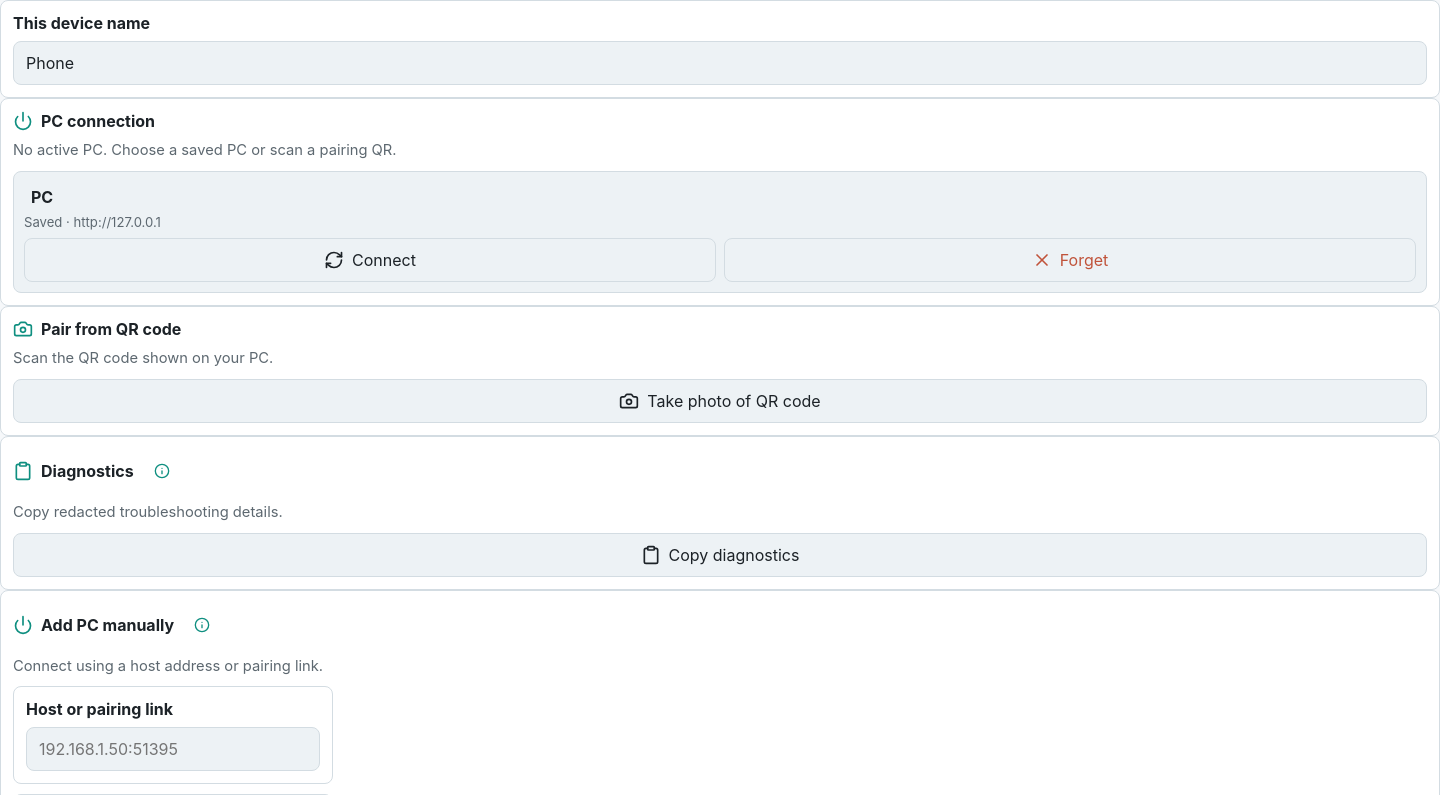
Test: ConnectionSettingsSection › retires a Forget confirmation when its PC is removed
The image size is (1440, 795).
Click the button "Forget". click: (1070, 260)
box: [724,238,1416,282]
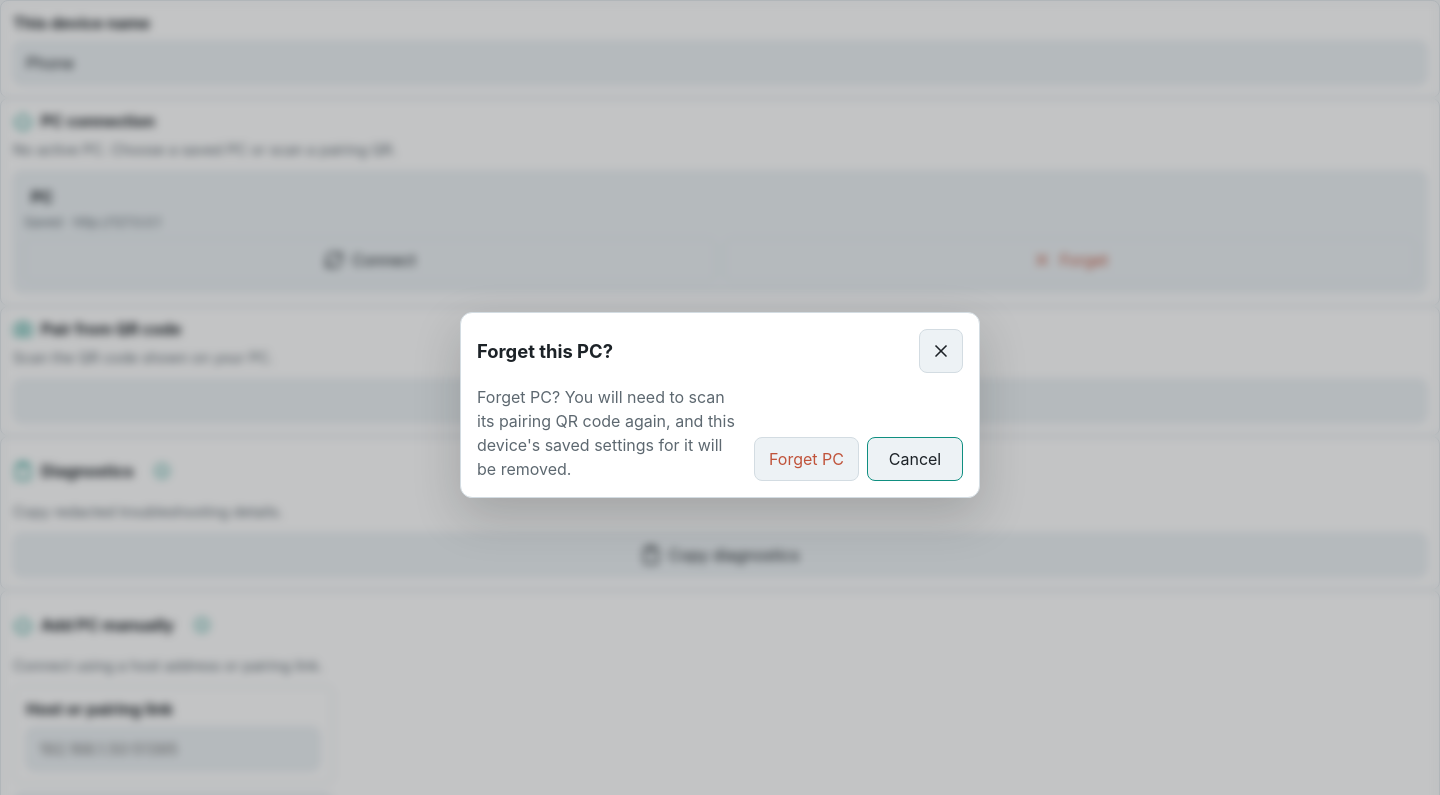
Check: the dialog is shown, box [460,312,980,498]
